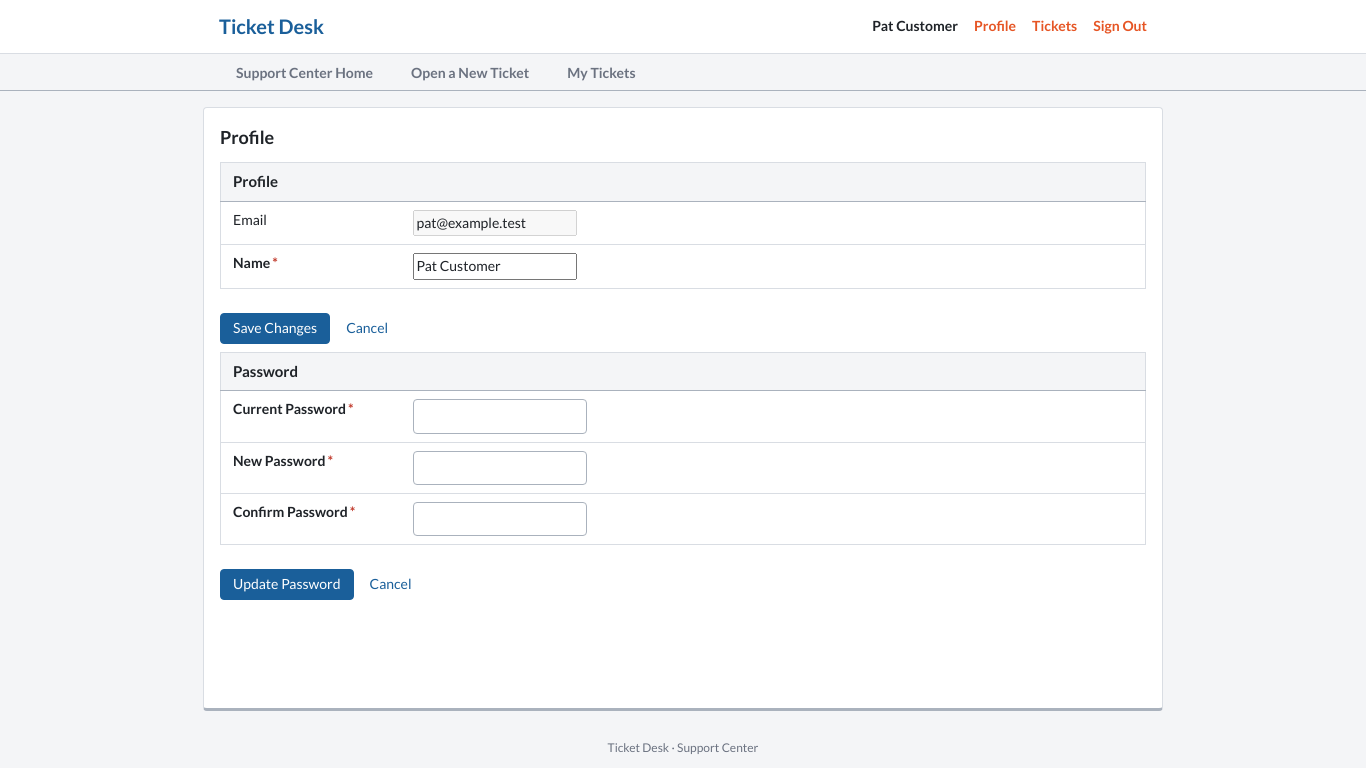
Test: shows a field error when the name update fails
The image size is (1366, 768).
Expected: the field labelled "Name*" is shown, [412,253,576,280]
Click the button "Save Changes": (275, 328) [220,313,330,344]
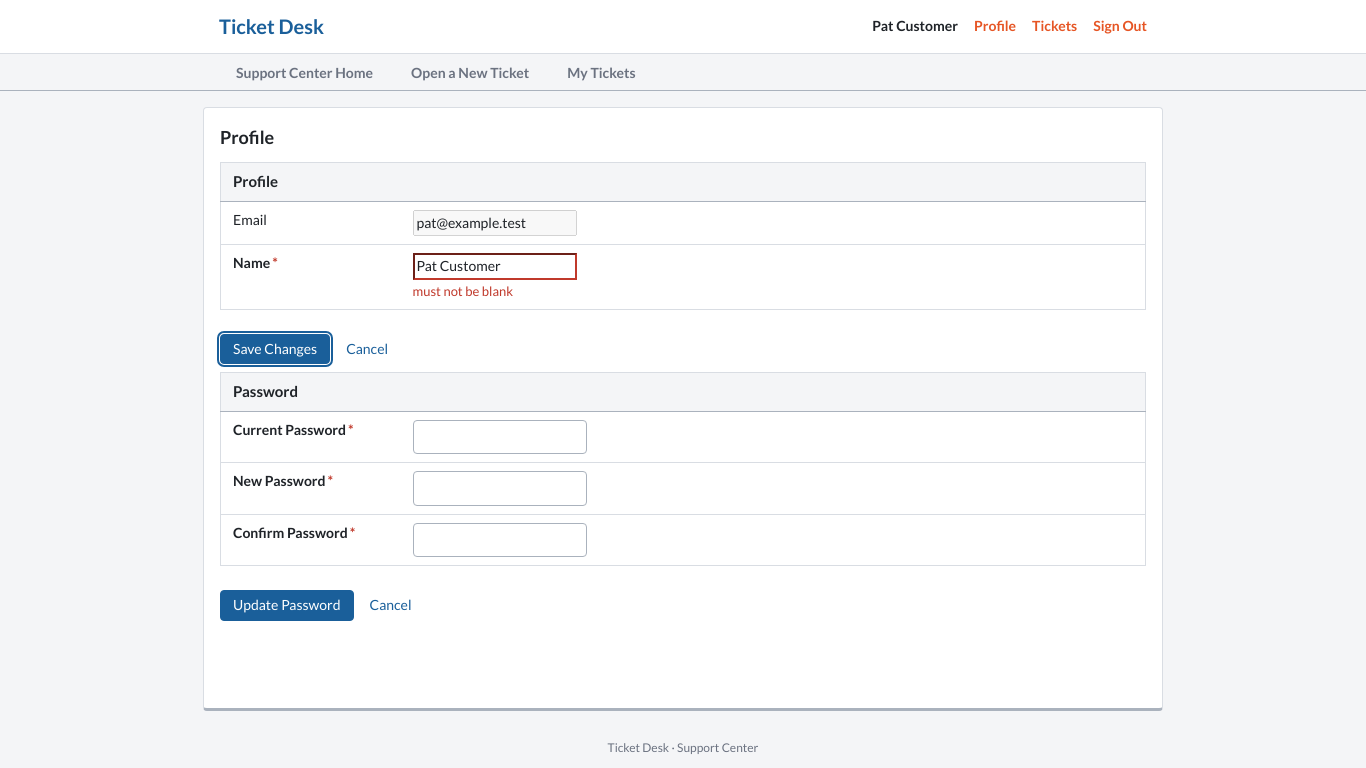
Now the text "must not be blank" is shown, box [412,283,513,299]
